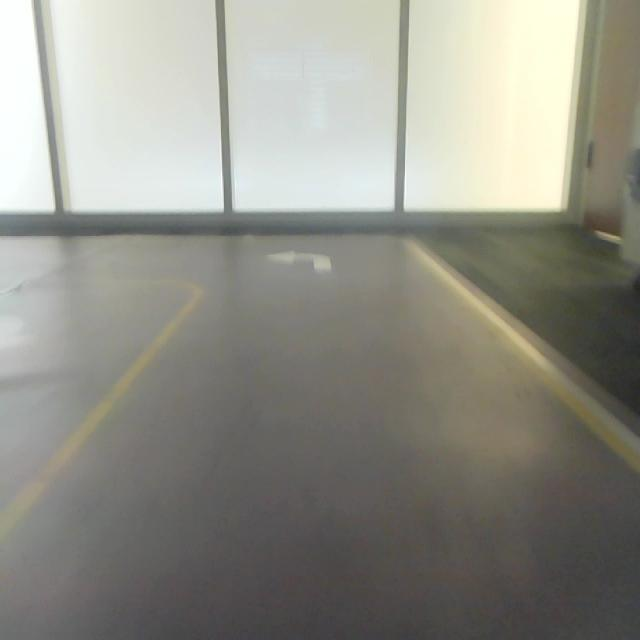left_lane: (2, 289, 199, 537)
right_lane: (405, 247, 640, 474)
